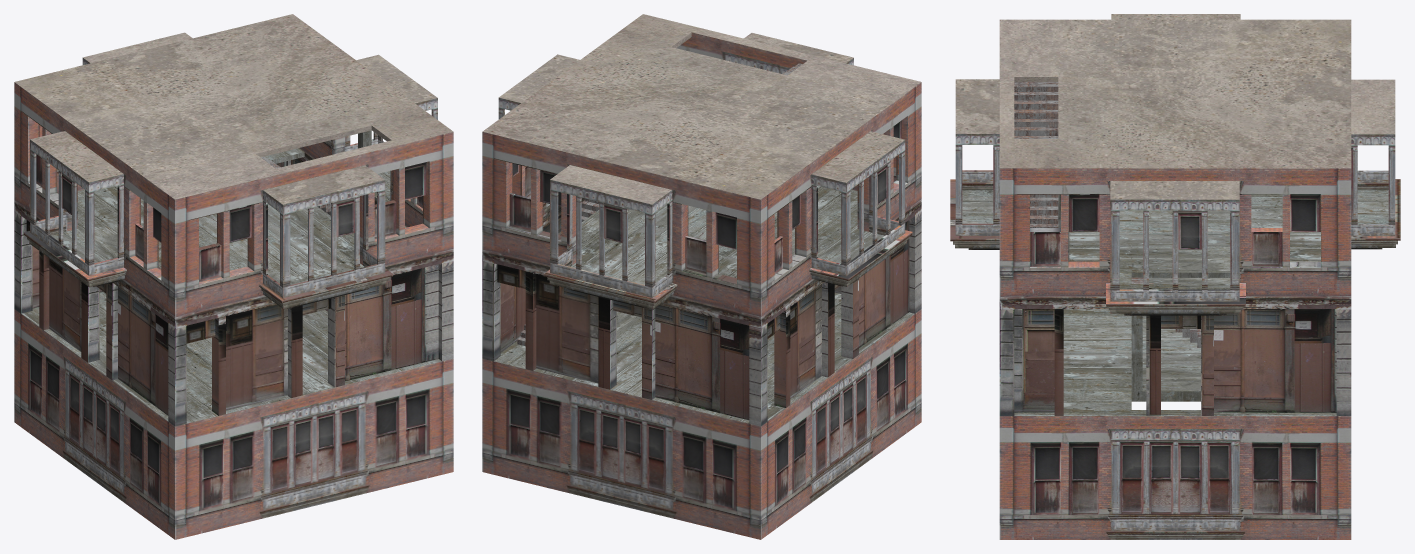
The model's file is BagBuilding7_200.fbx.
3 views of the same model, side by side, from view 1: azimuth 30°, elevation 25°; view 2: azimuth 150°, elevation 25°; view 3: azimuth 270°, elevation 25° (orthographic). The views are drawn at different scales.
Parts seen in each view (by area): view 1: mainA200, roofA200, floors200; view 2: mainA200, roofA200, floors200; view 3: mainA200, roofA200, floors200, stairsA200, pilarsA200.
Part boxes in pixels (x1=…): mainA200: x1=14, y1=58, x2=453, y2=539; roofA200: x1=14, y1=14, x2=453, y2=204; floors200: x1=21, y1=148, x2=441, y2=423; mainA200: x1=482, y1=32, x2=921, y2=539; roofA200: x1=482, y1=14, x2=921, y2=204; floors200: x1=494, y1=186, x2=914, y2=423; mainA200: x1=950, y1=134, x2=1400, y2=539; roofA200: x1=955, y1=14, x2=1395, y2=199; floors200: x1=962, y1=189, x2=1388, y2=415; stairsA200: x1=1014, y1=82, x2=1200, y2=347; pilarsA200: x1=1058, y1=194, x2=1142, y2=391.
Bounding box in the file's own units: 24.4 × 22.22 × 24.4.
